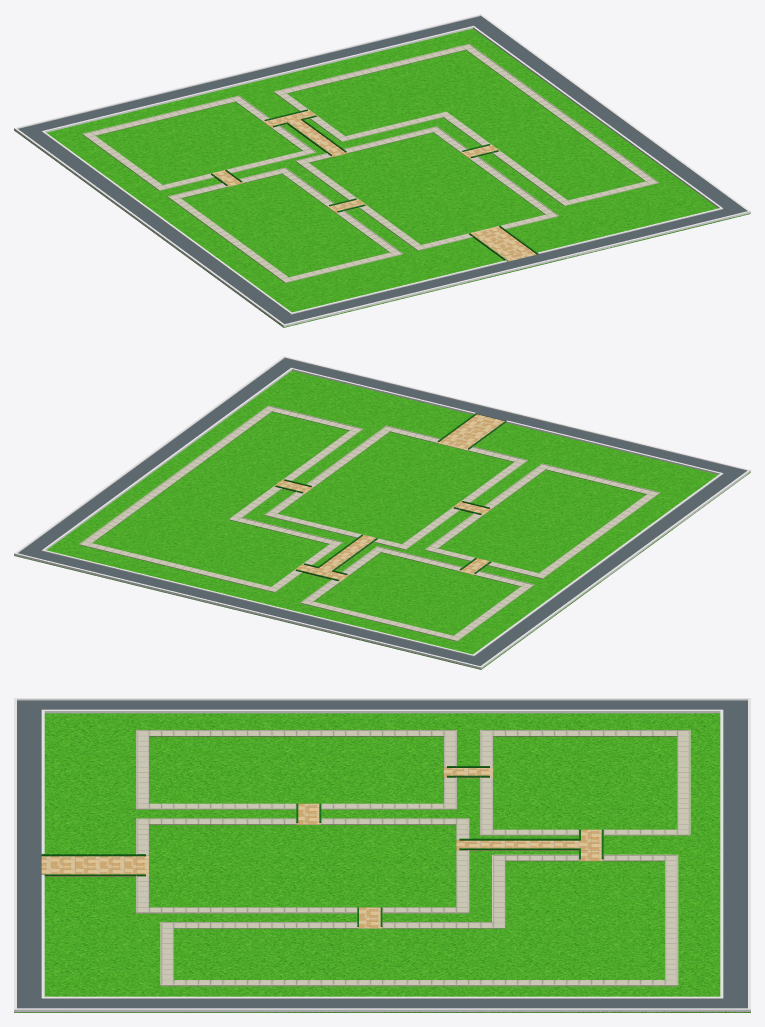
Rendered from TechParkArounds.fbx.
The picture shows the model from 3 angles, top to bottom: view 1: azimuth 30°, elevation 25°; view 2: azimuth 150°, elevation 25°; view 3: azimuth 270°, elevation 25°; orthographic projection. The views are drawn at different scales.
Parts seen in each view (by area): view 1: TechParkArounds, TechParkRoads; view 2: TechParkArounds, TechParkRoads; view 3: TechParkArounds, TechParkRoads.
Part boxes in pixels (bbox=[...]): TechParkArounds: bbox=[14, 14, 750, 327]; TechParkRoads: bbox=[210, 110, 536, 261]; TechParkArounds: bbox=[14, 356, 750, 669]; TechParkRoads: bbox=[274, 414, 505, 581]; TechParkArounds: bbox=[14, 698, 750, 1012]; TechParkRoads: bbox=[41, 767, 603, 928].
Bounding box in the file's own units: 120 × 0.6 × 120.
